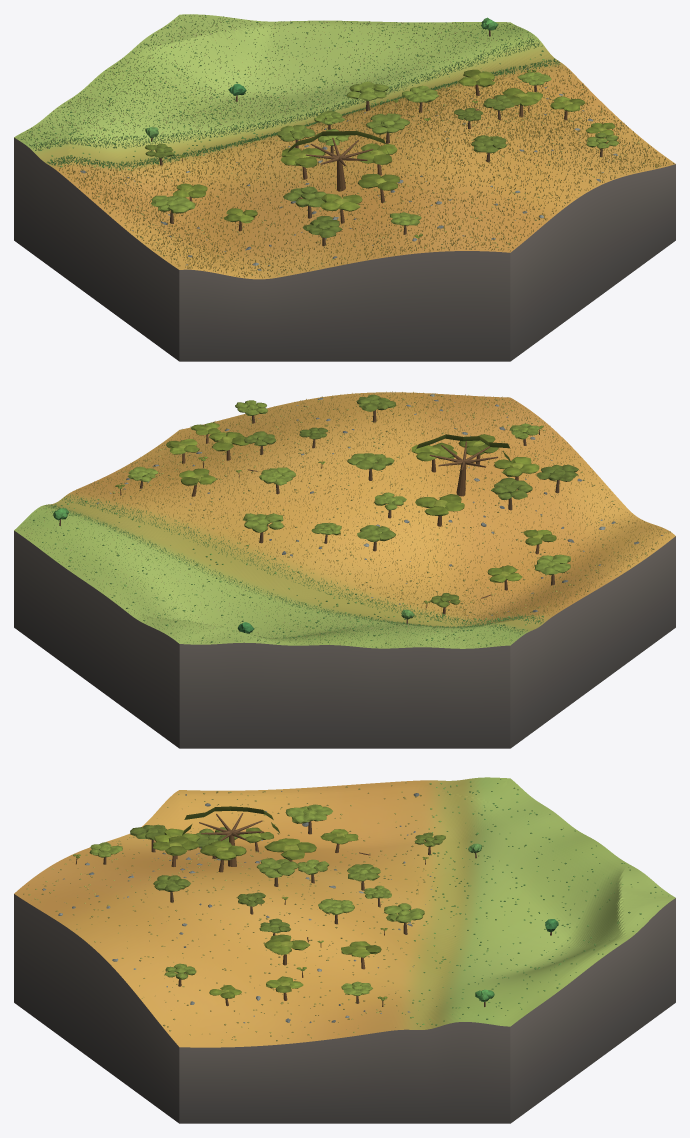
3 views of the same model, one above another, from view 1: azimuth 30°, elevation 25°; view 2: azimuth 150°, elevation 25°; view 3: azimuth 270°, elevation 25° (orthographic).
Visible parts, largest first — view 1: terrain, hex_side_cut, wildflowers, broadleaf_canopy, shrubs, trunks, boulders, branches; view 2: terrain, hex_side_cut, wildflowers, broadleaf_canopy, shrubs, trunks, boulders, branches; view 3: terrain, hex_side_cut, broadleaf_canopy, shrubs, trunks, boulders, branches.
Part boxes in pixels (left/top/right/bottom): terrain: left=14, top=14, right=675, bottom=279; hex_side_cut: left=14, top=137, right=675, bottom=361; wildflowers: left=19, top=14, right=673, bottom=278; broadleaf_canopy: left=145, top=17, right=618, bottom=238; shrubs: left=21, top=16, right=660, bottom=274; trunks: left=151, top=30, right=602, bottom=246; boulders: left=80, top=69, right=617, bottom=270; branches: left=155, top=109, right=606, bottom=198; terrain: left=14, top=392, right=675, bottom=648; hex_side_cut: left=14, top=530, right=675, bottom=748; wildflowers: left=18, top=391, right=670, bottom=647; broadleaf_canopy: left=53, top=394, right=578, bottom=633; shrubs: left=33, top=393, right=666, bottom=647; trunks: left=59, top=410, right=559, bottom=623; boulders: left=97, top=394, right=663, bottom=615; branches: left=247, top=441, right=510, bottom=602; terrain: left=14, top=777, right=675, bottom=1047; hex_side_cut: left=14, top=894, right=675, bottom=1123; broadleaf_canopy: left=73, top=804, right=558, bottom=1001; shrubs: left=23, top=779, right=668, bottom=1042; trunks: left=76, top=821, right=551, bottom=1006; boulders: left=42, top=791, right=431, bottom=1023; branches: left=76, top=813, right=425, bottom=973.
Size of the model in its own units: 4330 by 1246 by 5000.
